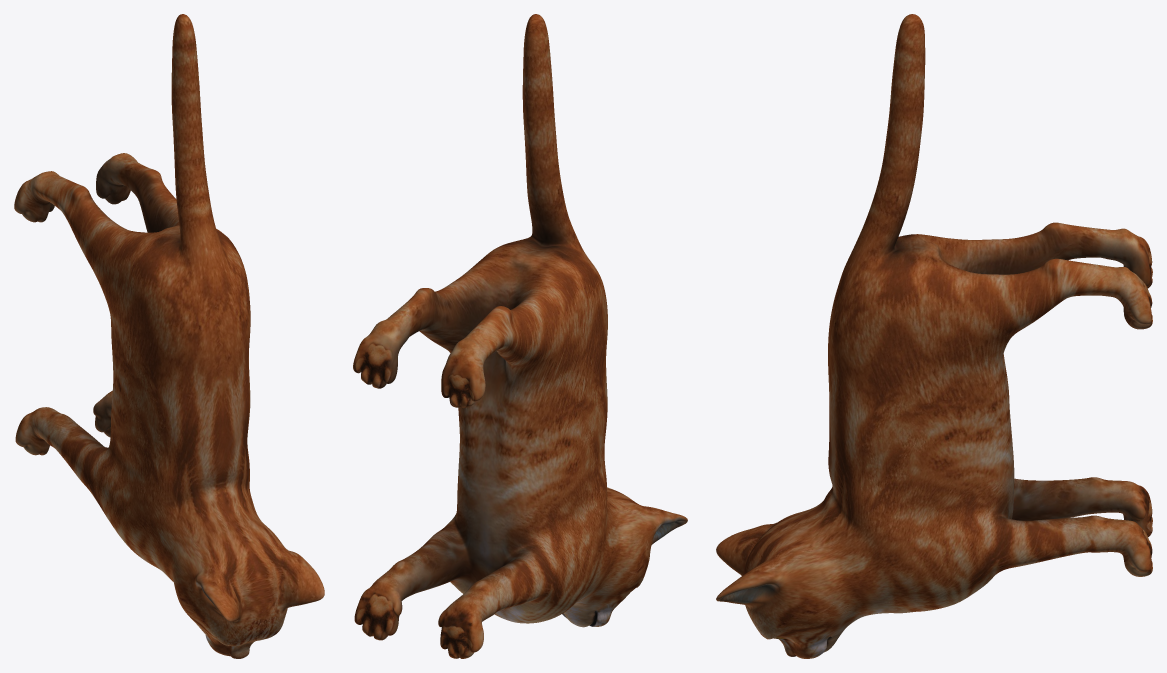
The model's file is 12221_Cat_v1_l3.obj.
3 views of the same model, side by side, from view 1: azimuth 30°, elevation 25°; view 2: azimuth 150°, elevation 25°; view 3: azimuth 270°, elevation 25° (orthographic). The views are drawn at different scales.
Visible parts, largest first — view 1: Cat; view 2: Cat; view 3: Cat.
Part boxes in pixels (x1,y1,x2,y2): Cat: (14, 14, 324, 658); Cat: (353, 14, 687, 658); Cat: (716, 14, 1152, 658).
Bounding box in the file's own units: 12.56 × 60.88 × 37.61.
1 material, 1 textured.
